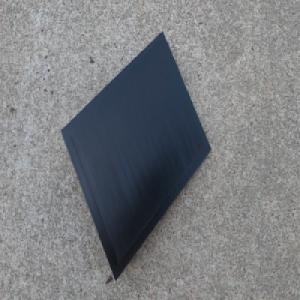PlasticPart: (60, 29, 211, 282)
